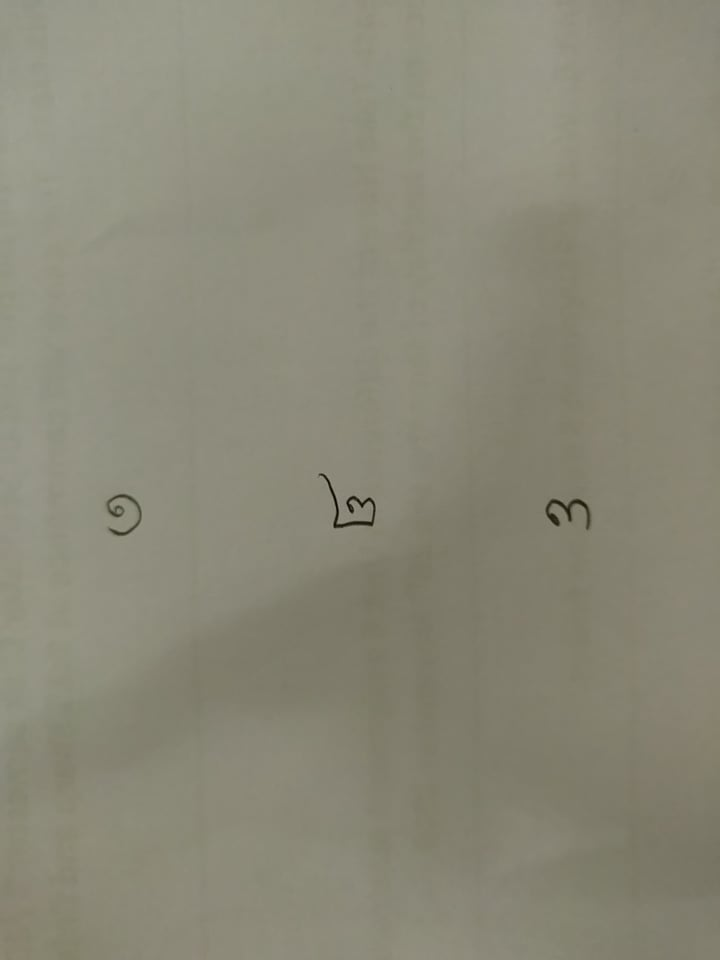One: (99, 485, 146, 545)
Three: (540, 484, 604, 541)
Two: (306, 467, 386, 537)
